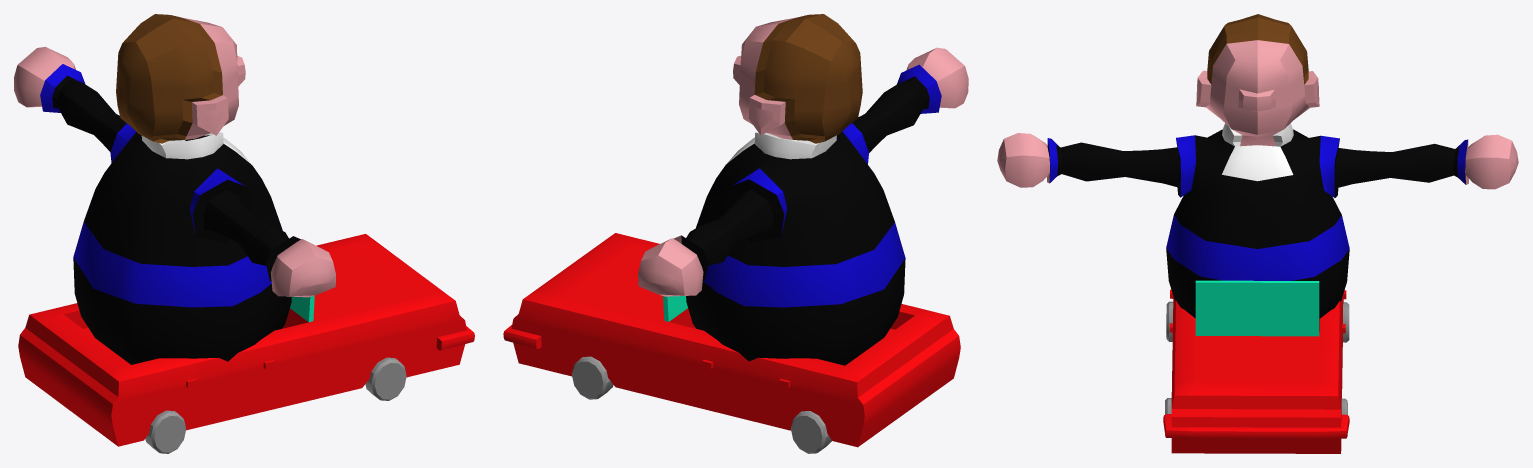
File: CHAR_Hero.FBX
3 views of the same model, side by side, from view 1: azimuth 30°, elevation 25°; view 2: azimuth 150°, elevation 25°; view 3: azimuth 270°, elevation 25° (orthographic). The views are drawn at different scales.
Parts seen in each view (by area): view 1: CHAR_Playable; view 2: CHAR_Playable; view 3: CHAR_Playable.
Boxes of the visible parts, bbox=[...] form: CHAR_Playable: bbox=[14, 14, 474, 453]; CHAR_Playable: bbox=[503, 14, 968, 453]; CHAR_Playable: bbox=[997, 14, 1518, 453].
Bounding box in the file's own units: 183 × 187 × 255.
